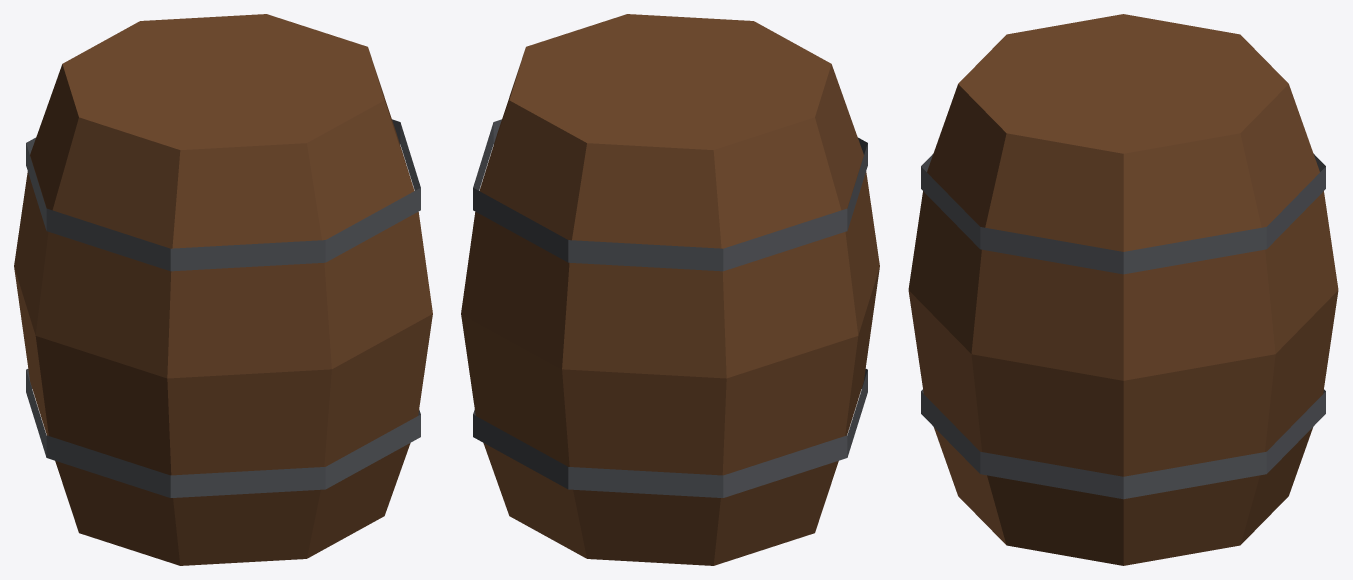
Rendered from primitive_barrel.obj.
3 renders of one model, left to right at view 1: azimuth 30°, elevation 25°; view 2: azimuth 150°, elevation 25°; view 3: azimuth 270°, elevation 25°, orthographic.
Visible parts, largest first — view 1: primitive_barrel; view 2: primitive_barrel; view 3: primitive_barrel.
Boxes of the visible parts, left/top/right/bottom form: primitive_barrel: left=14, top=14, right=432, bottom=565; primitive_barrel: left=461, top=14, right=879, bottom=565; primitive_barrel: left=908, top=14, right=1338, bottom=565.
Bounding box in the file's own units: 1.04 × 1.1 × 1.04.
